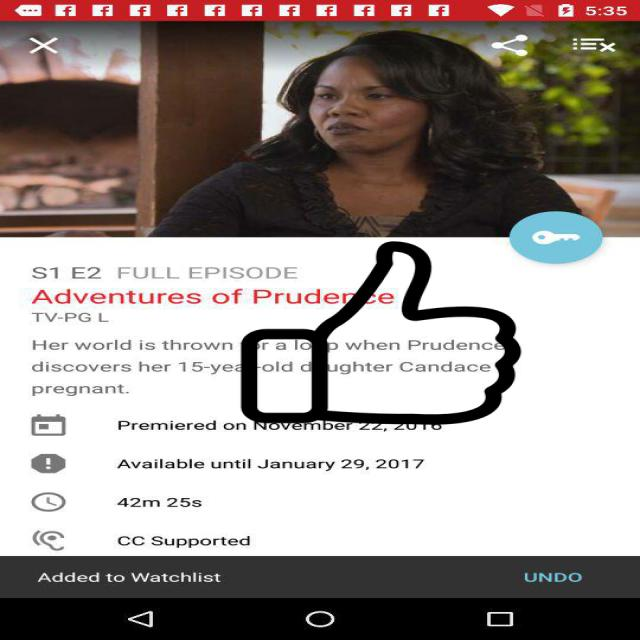privacy zuckering: (237, 241, 525, 425)
